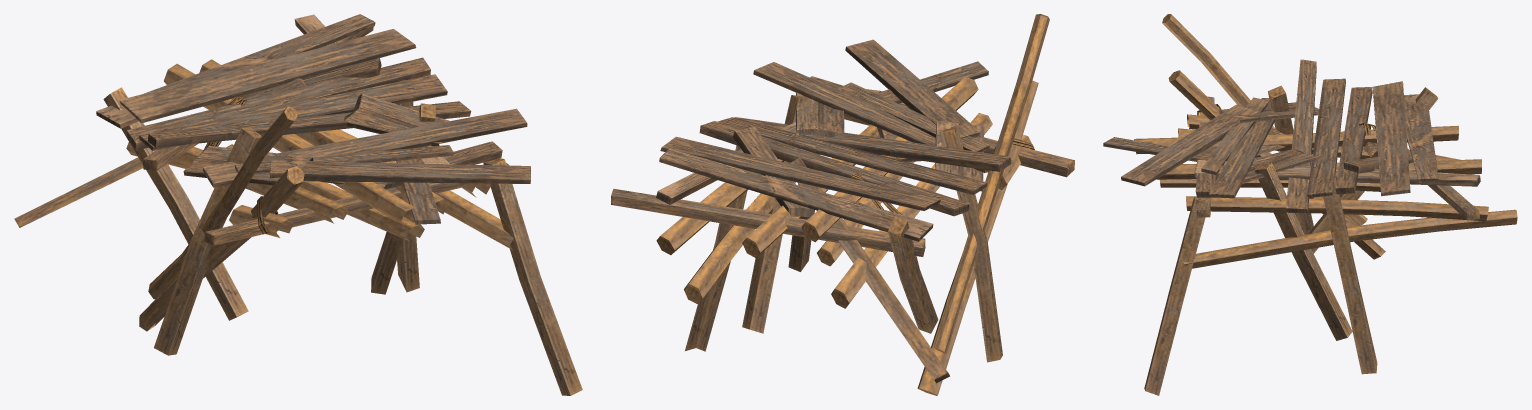
The model's file is Item_5008_shitou_muqiao03.FBX.
3 views of the same model, side by side, from view 1: azimuth 30°, elevation 25°; view 2: azimuth 150°, elevation 25°; view 3: azimuth 270°, elevation 25° (orthographic). The views are drawn at different scales.
Parts seen in each view (by area): view 1: Item_5008_shitou_muqiao03; view 2: Item_5008_shitou_muqiao03; view 3: Item_5008_shitou_muqiao03.
Boxes of the visible parts, x1,y1,x2,y2 form: Item_5008_shitou_muqiao03: [14, 14, 582, 395]; Item_5008_shitou_muqiao03: [611, 14, 1074, 395]; Item_5008_shitou_muqiao03: [1103, 14, 1517, 395].
Size of the model in its own units: 595 by 542 by 736.
